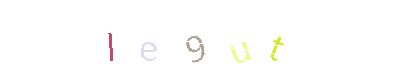9: (162, 0, 242, 80)
E: (156, 0, 236, 80)
L: (70, 0, 150, 80)
T: (236, 0, 316, 80)
U: (203, 0, 283, 80)
